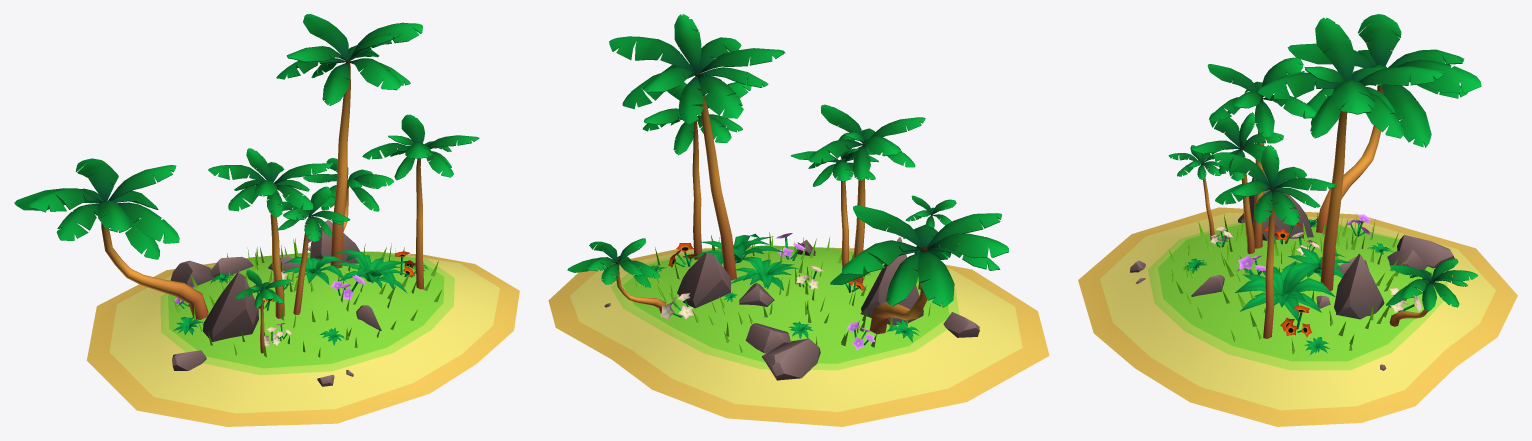
Rendered from Desert_Island_A_V001.obj.
The picture shows the model from 3 angles, left to right: view 1: azimuth 30°, elevation 25°; view 2: azimuth 150°, elevation 25°; view 3: azimuth 270°, elevation 25°; orthographic projection. The views are drawn at different scales.
Visible parts, largest first — view 1: Island_Main, M_Island, Palm_Tree_B_0111, PALM_TREE_A_TRUNK, Palm_Tree_B_0106, Palm_Tree_B_0101, Palm_Tree_B_0109, Palm_Tree_B_0102, Leaf_Palm_Tree_A_004, Leaf_Palm_Tree_A_008, Palm_Tree_B_0108, Palm_Tree_A_0211 (+13 smaller); view 2: Island_Main, M_Island, PALM_TREE_A_TRUNK, Leaf_Palm_Tree_A_010, Palm_Tree_B_0103, Palm_Tree_B_0109, Leaf_Palm_Tree_A_005, Palm_Tree_B_0101, Palm_Tree_B_0108, Palm_Tree_B_0111, Palm_Tree_B_0110, Leaf_Palm_Tree_A_009 (+17 smaller); view 3: Island_Main, M_Island, PALM_TREE_A_TRUNK, Palm_Tree_B_0107, Leaf_Palm_Tree_A_007, Palm_Tree_B_0101, Palm_Tree_B_0109, Leaf_Palm_Tree_A_004, Leaf_Palm_Tree_A_008, Palm_Tree_B_0111, Leaf_Palm_Tree_A_010, Palm_Tree_A_0211 (+18 smaller).
Boxes of the visible parts, left/top/right/bottom form: Island_Main: left=87, top=251, right=519, bottom=426; M_Island: left=170, top=220, right=428, bottom=386; Palm_Tree_B_0111: left=101, top=200, right=208, bottom=319; PALM_TREE_A_TRUNK: left=330, top=60, right=350, bottom=268; Palm_Tree_B_0106: left=117, top=202, right=179, bottom=243; Palm_Tree_B_0101: left=29, top=188, right=102, bottom=212; Palm_Tree_B_0109: left=75, top=158, right=118, bottom=200; Palm_Tree_B_0102: left=56, top=204, right=98, bottom=240; Leaf_Palm_Tree_A_004: left=303, top=14, right=348, bottom=60; Leaf_Palm_Tree_A_008: left=349, top=58, right=401, bottom=90; Palm_Tree_B_0108: left=108, top=165, right=176, bottom=200; Palm_Tree_A_0211: left=415, top=158, right=424, bottom=289; Island_Main: left=548, top=245, right=1049, bottom=426; M_Island: left=604, top=233, right=979, bottom=380; PALM_TREE_A_TRUNK: left=695, top=72, right=736, bottom=280; Leaf_Palm_Tree_A_010: left=609, top=36, right=695, bottom=72; Palm_Tree_B_0103: left=917, top=250, right=954, bottom=307; Palm_Tree_B_0109: left=842, top=240, right=922, bottom=274; Leaf_Palm_Tree_A_005: left=697, top=74, right=743, bottom=118; Palm_Tree_B_0101: left=926, top=233, right=1008, bottom=257; Palm_Tree_B_0108: left=853, top=205, right=923, bottom=248; Palm_Tree_B_0111: left=869, top=247, right=928, bottom=334; Palm_Tree_B_0110: left=886, top=251, right=923, bottom=306; Leaf_Palm_Tree_A_009: left=674, top=14, right=701, bottom=72; Island_Main: left=1078, top=207, right=1517, bottom=426; M_Island: left=1130, top=171, right=1454, bottom=370; PALM_TREE_A_TRUNK: left=1320, top=104, right=1347, bottom=290; Palm_Tree_B_0107: left=1382, top=85, right=1431, bottom=147; Leaf_Palm_Tree_A_007: left=1315, top=17, right=1354, bottom=80; Palm_Tree_B_0101: left=1358, top=14, right=1401, bottom=66; Palm_Tree_B_0109: left=1397, top=59, right=1481, bottom=93; Leaf_Palm_Tree_A_004: left=1358, top=66, right=1445, bottom=85; Leaf_Palm_Tree_A_008: left=1258, top=72, right=1339, bottom=99; Palm_Tree_B_0111: left=1316, top=85, right=1383, bottom=233; Leaf_Palm_Tree_A_010: left=1332, top=79, right=1375, bottom=114; Palm_Tree_A_0211: left=1263, top=188, right=1274, bottom=338.
Bounding box in the file's own units: 9.57 × 5.64 × 7.46.
Materials: 14 (13 with a texture image).
